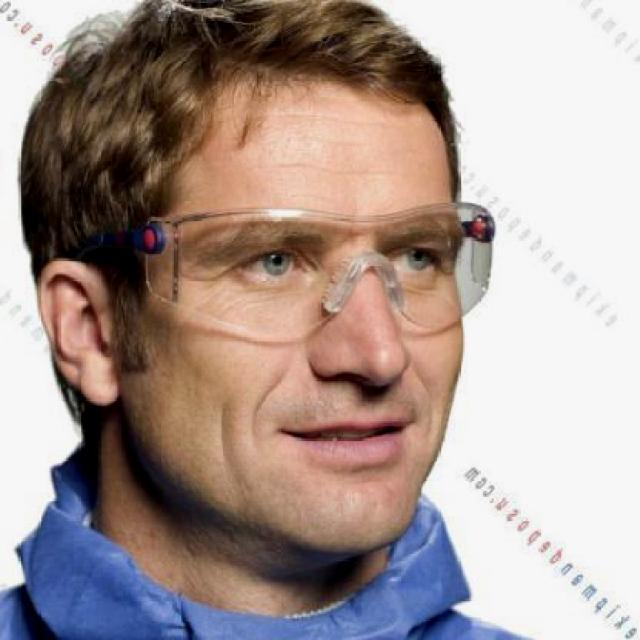face_nomask: (216, 227, 464, 498)
glasses: (145, 198, 498, 340)
head_nohelmet: (53, 0, 447, 146)
